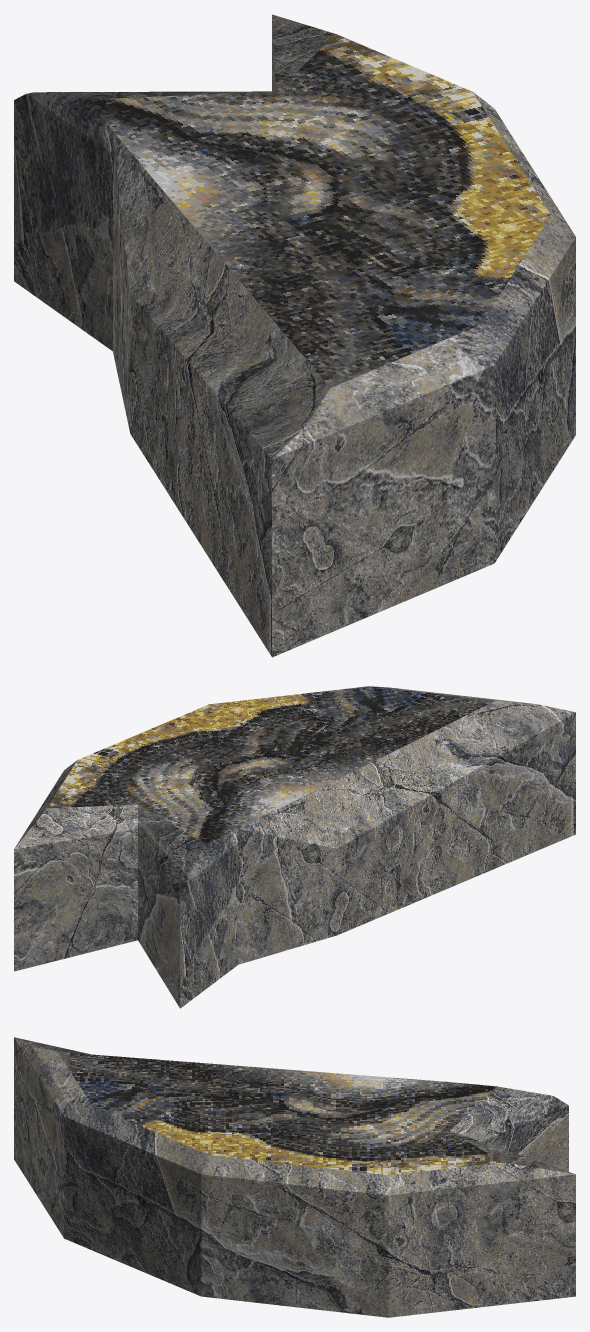
The model's file is chapel_key_2.glb.
The picture shows the model from 3 angles, top to bottom: view 1: azimuth 30°, elevation 25°; view 2: azimuth 150°, elevation 25°; view 3: azimuth 270°, elevation 25°; orthographic projection. The views are drawn at different scales.
Parts seen in each view (by area): view 1: key2; view 2: key2; view 3: key2.
Part boxes in pixels (x1,y1,x2,y2): key2: [14, 14, 575, 657]; key2: [14, 686, 575, 1008]; key2: [14, 1037, 575, 1317].
Size of the model in its own units: 0.25 by 0.1 by 0.375.
2 materials, 2 textured.
